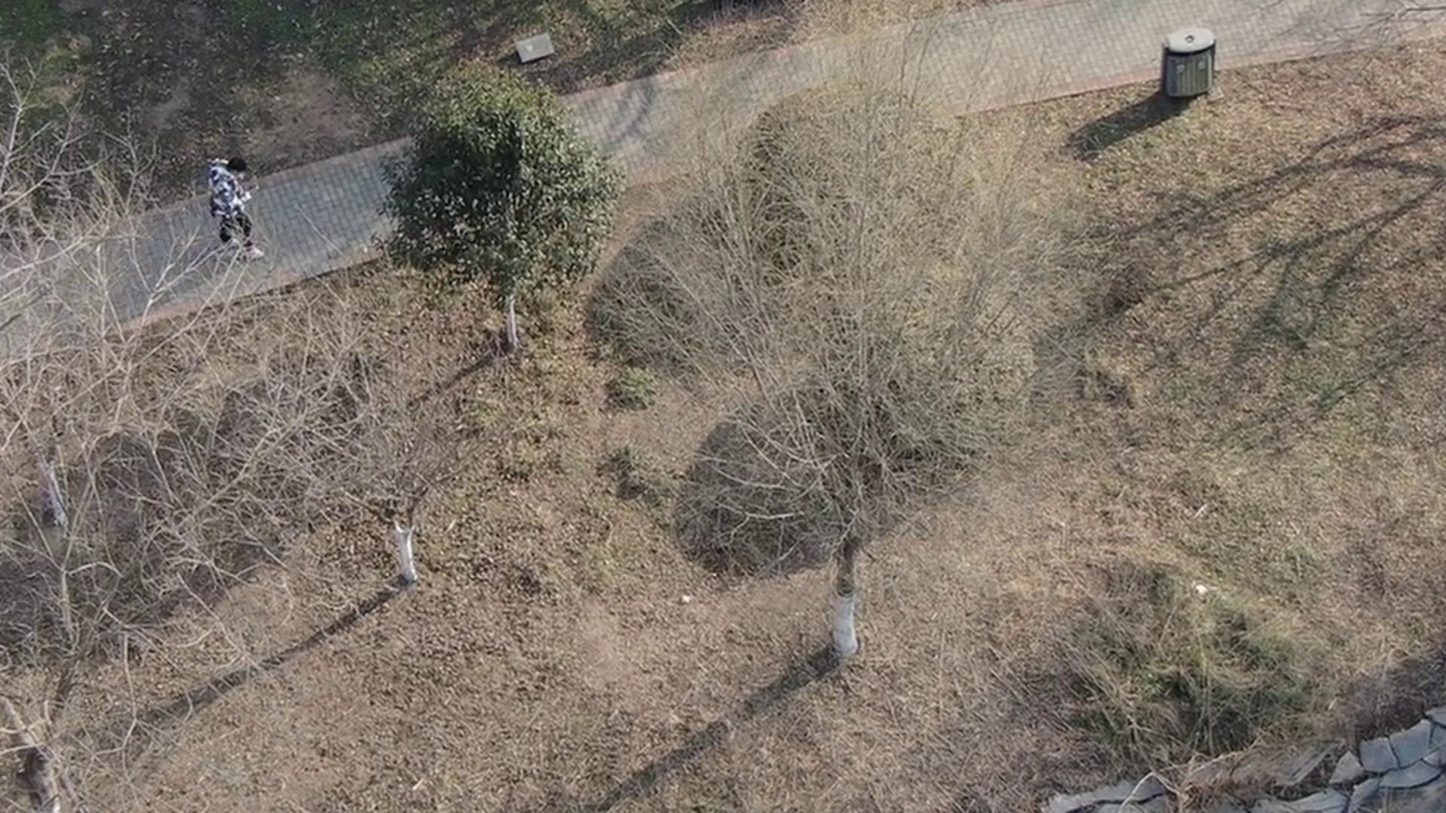human: (236, 153, 289, 268)
